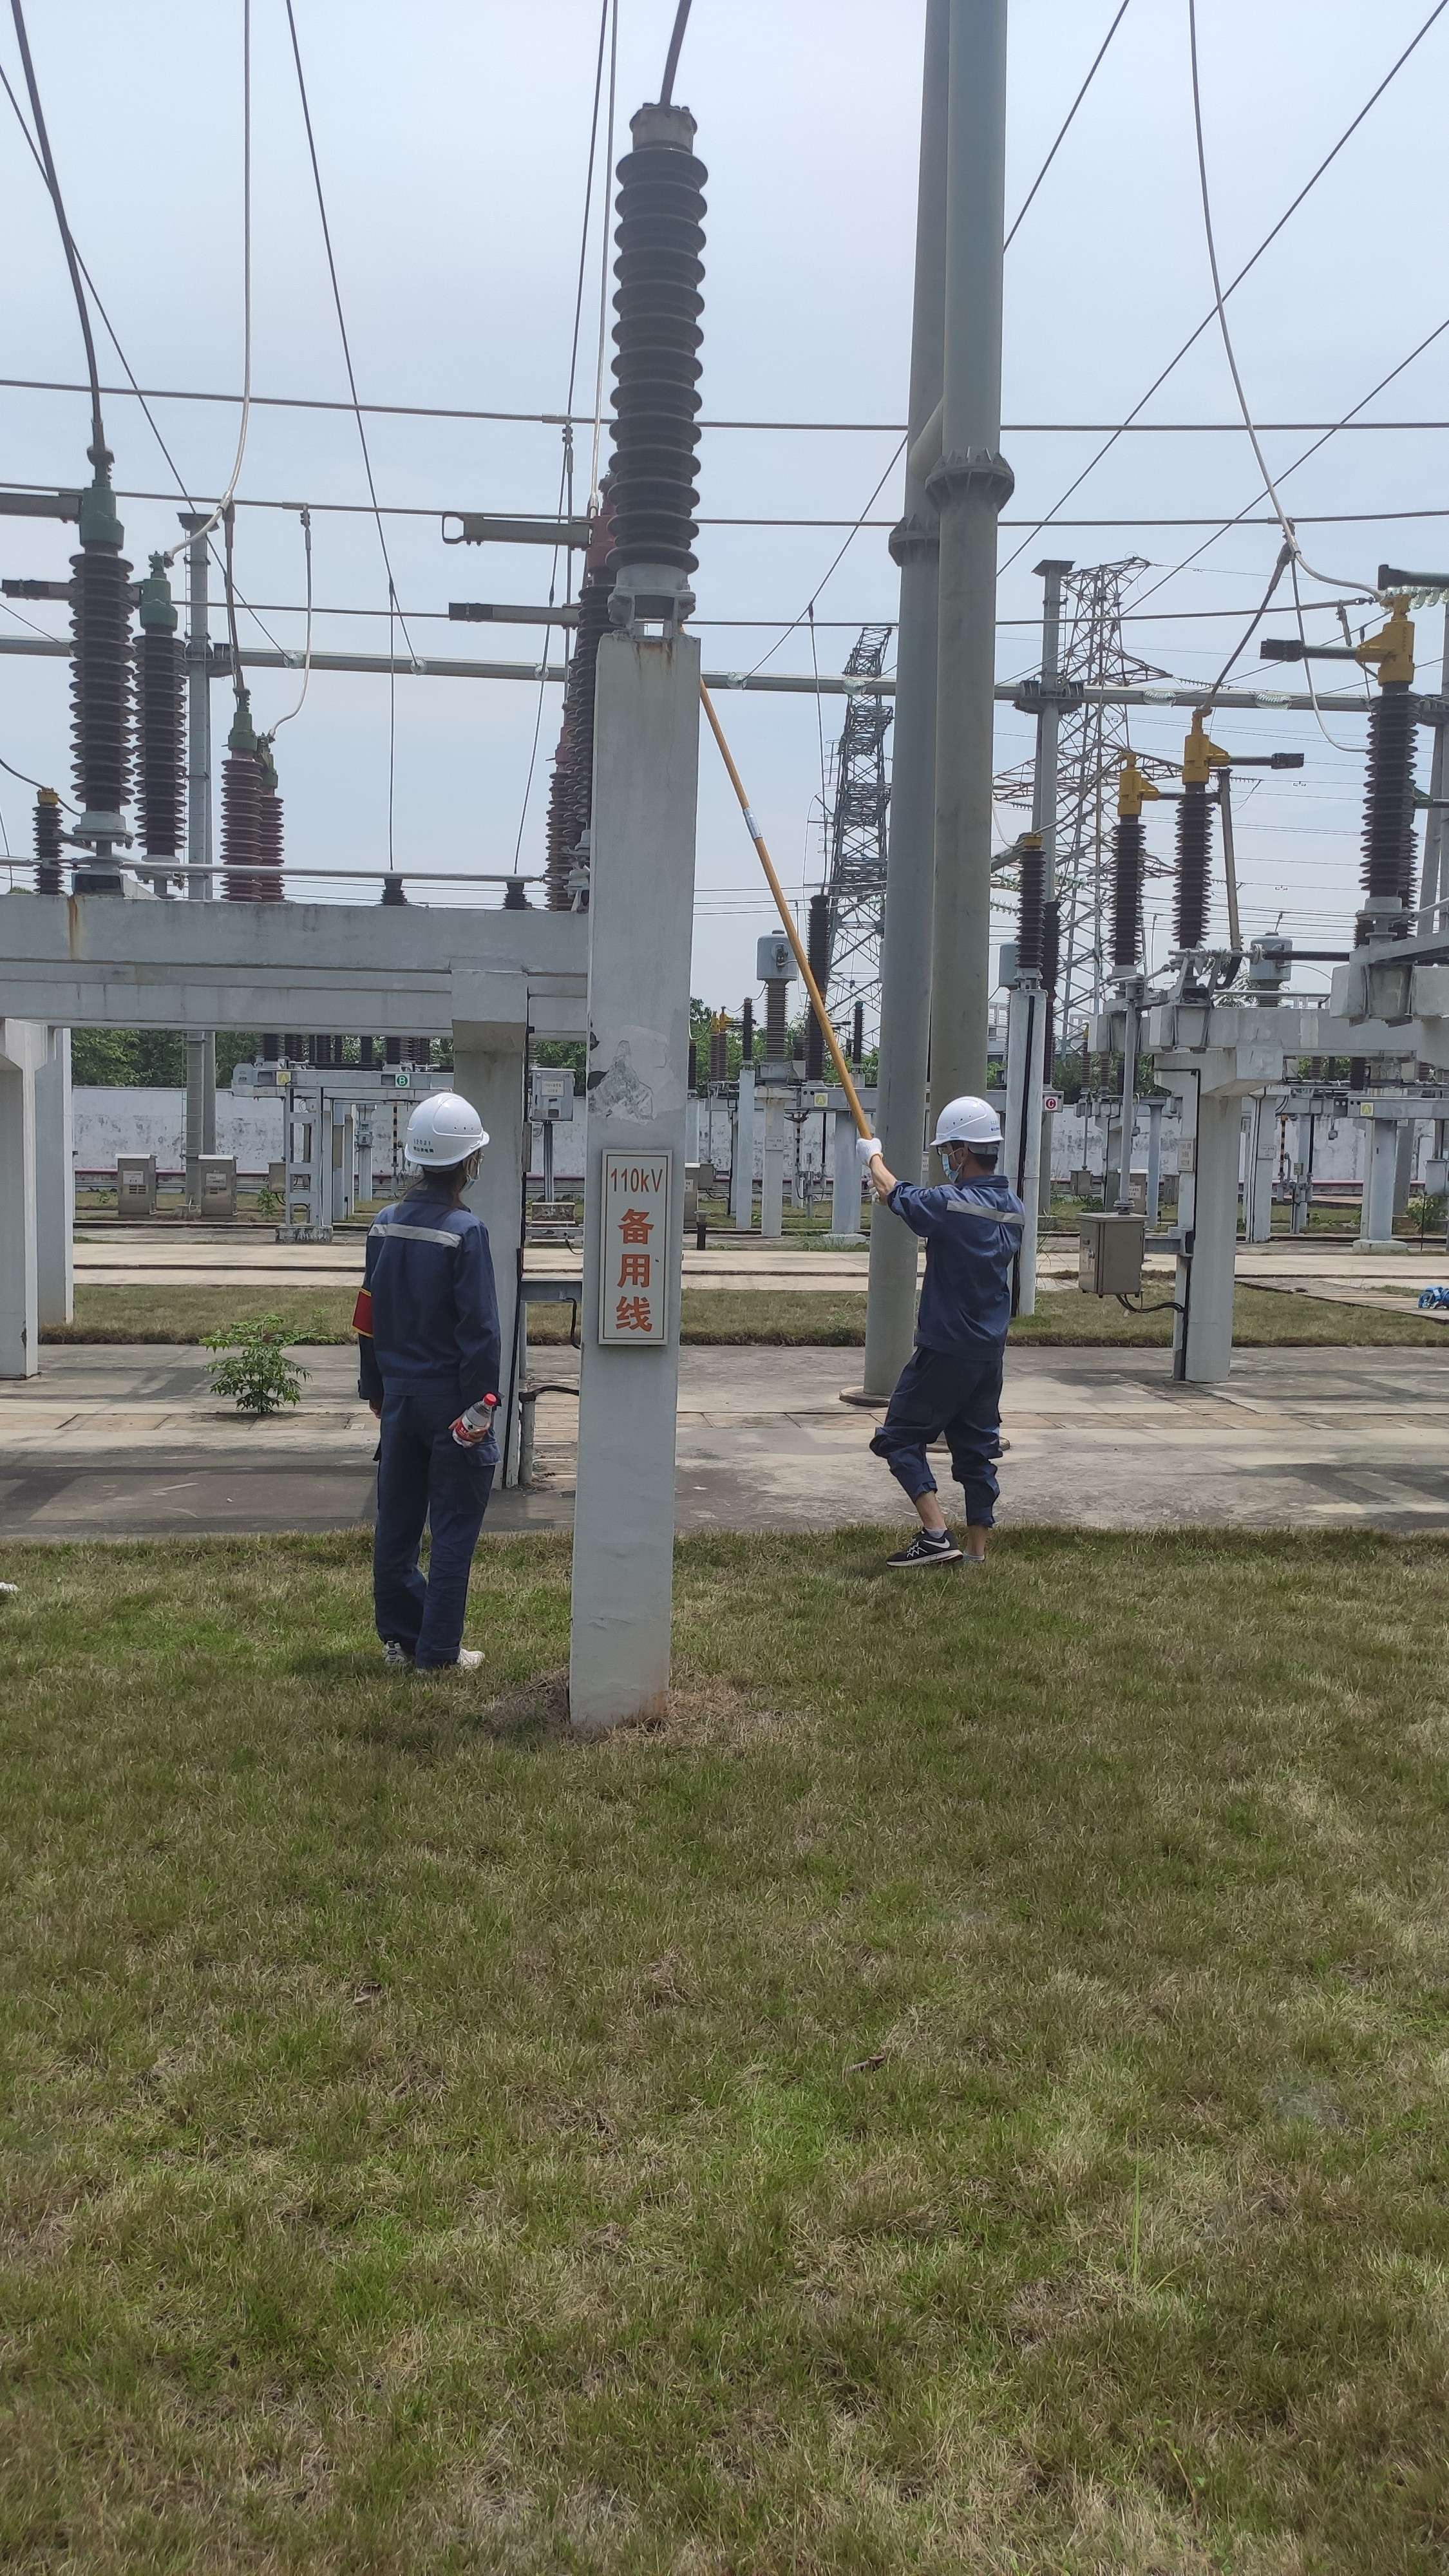downsuit: (364, 1417, 499, 1654), (870, 1341, 1010, 1532)
upsuit: (357, 1184, 506, 1401), (890, 1175, 1030, 1327)
wrongbottom: (909, 1474, 952, 1543), (966, 1504, 998, 1564)
wrongtop: (867, 1141, 913, 1219)
